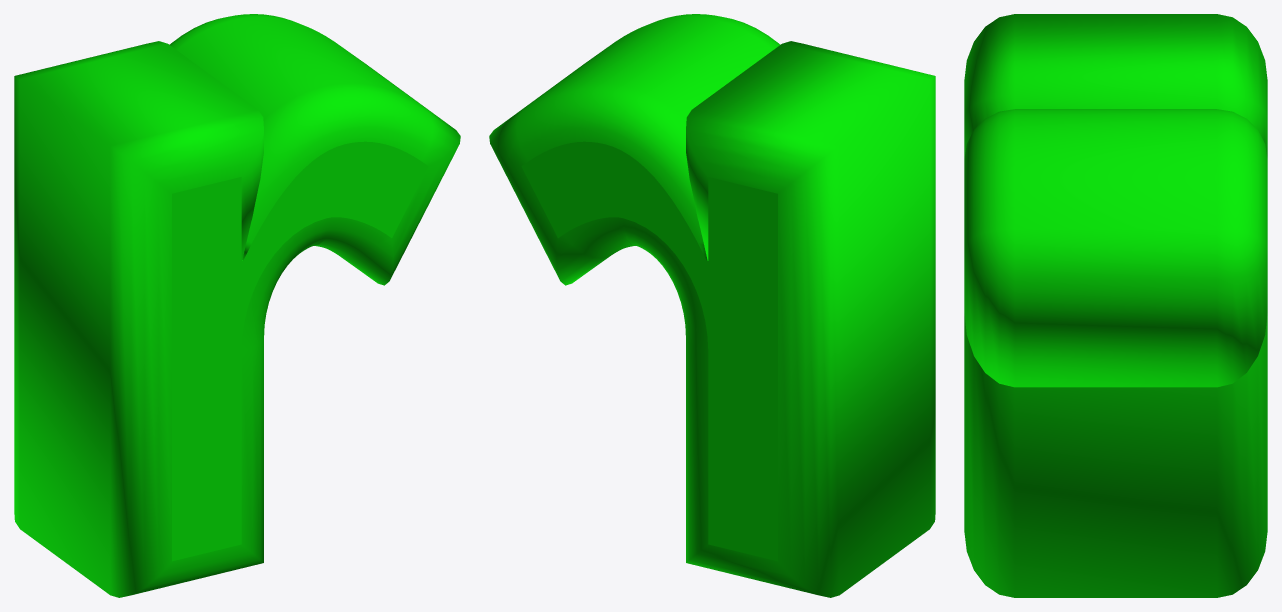
3 views of the same model, side by side, from view 1: azimuth 30°, elevation 25°; view 2: azimuth 150°, elevation 25°; view 3: azimuth 270°, elevation 25° (orthographic). The views are drawn at different scales.
Parts seen in each view (by area): view 1: Text; view 2: Text; view 3: Text.
Boxes of the visible parts, bbox=[...] form: Text: bbox=[14, 14, 460, 597]; Text: bbox=[489, 14, 935, 597]; Text: bbox=[964, 14, 1267, 597].
Bounding box in the file's own units: 1.33 × 1.67 × 0.9.
